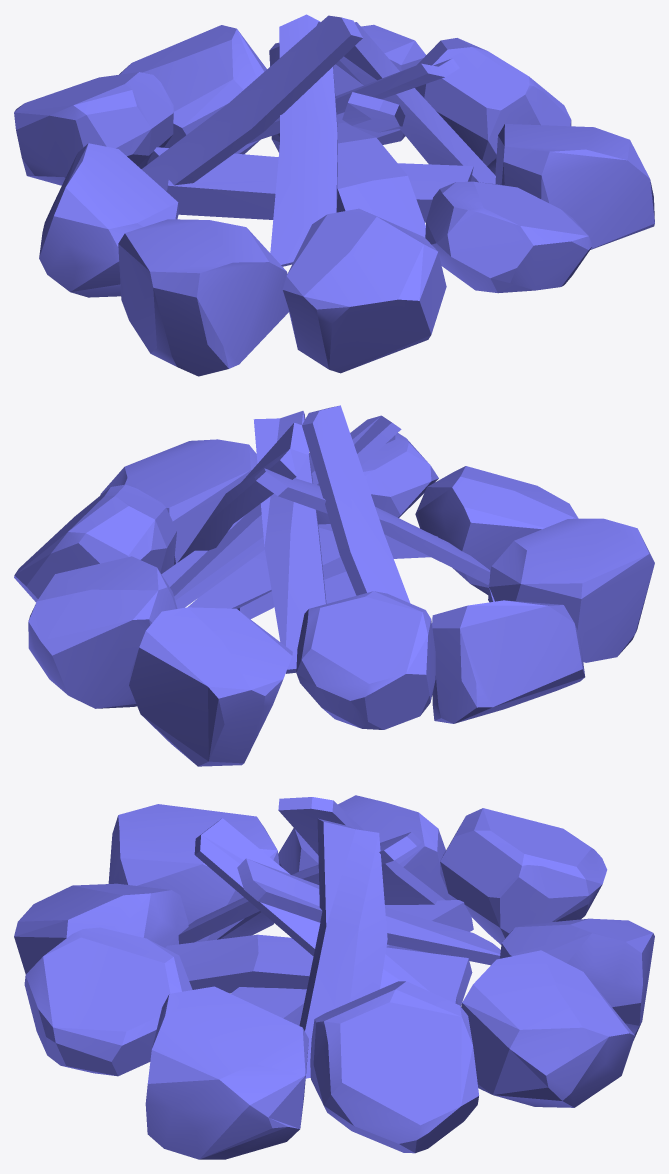
Rendered from SM_Dummy_Campfire.fbx.
The picture shows the model from 3 angles, top to bottom: view 1: azimuth 30°, elevation 25°; view 2: azimuth 150°, elevation 25°; view 3: azimuth 270°, elevation 25°; orthographic projection. The views are drawn at different scales.
Parts seen in each view (by area): view 1: SM_Dummy_Campfire; view 2: SM_Dummy_Campfire; view 3: SM_Dummy_Campfire.
Part boxes in pixels (x1,y1,x2,y2): SM_Dummy_Campfire: [14, 14, 654, 376]; SM_Dummy_Campfire: [14, 405, 654, 766]; SM_Dummy_Campfire: [14, 795, 654, 1159].
Size of the model in its own units: 90.07 by 87 by 39.67.
Materials: 1 (1 with a texture image).
